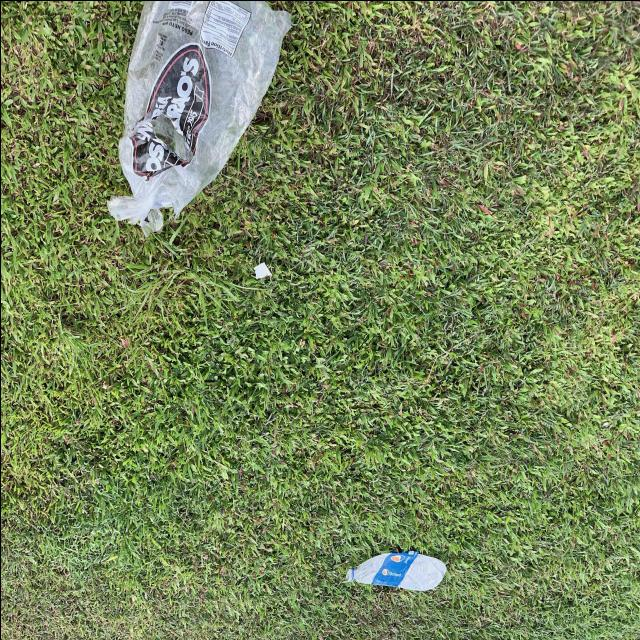Clear plastic bottle: (344, 551, 445, 590)
Plastic film: (106, 1, 291, 237)
Unlabeled litter: (252, 262, 272, 277)
